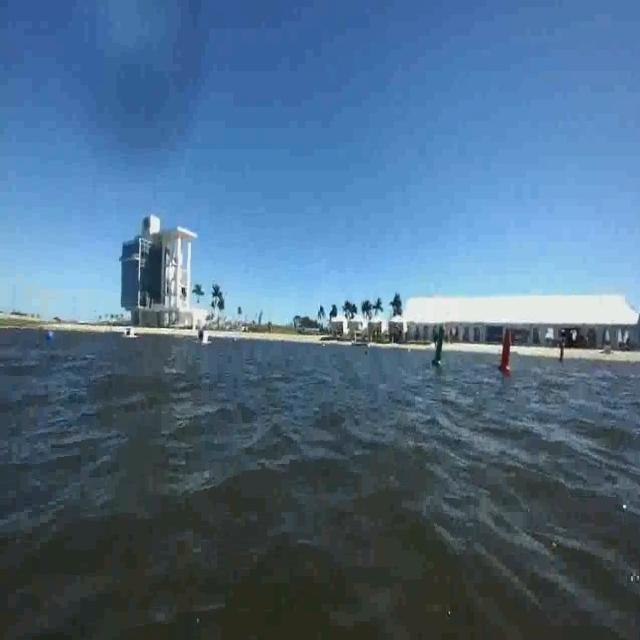blue-buoy: (42, 320, 57, 339)
green-column-buoy: (431, 310, 448, 376)
red-column-buoy: (497, 330, 514, 375)
